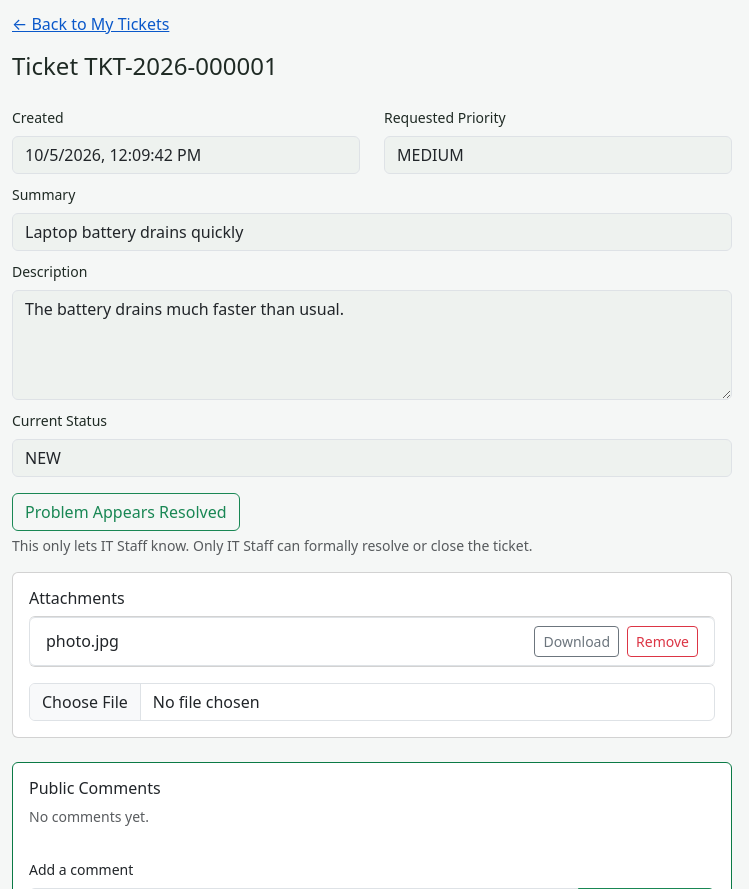
RequesterTicketDetail › removing an attachment requires a reason before confirming (AttachmentSection)
Expected: the text "photo.jpg" is shown, [46,630,119,654]
Click the button with aria-label "Remove photo.jpg" at (663,642), box [627,626,698,657]
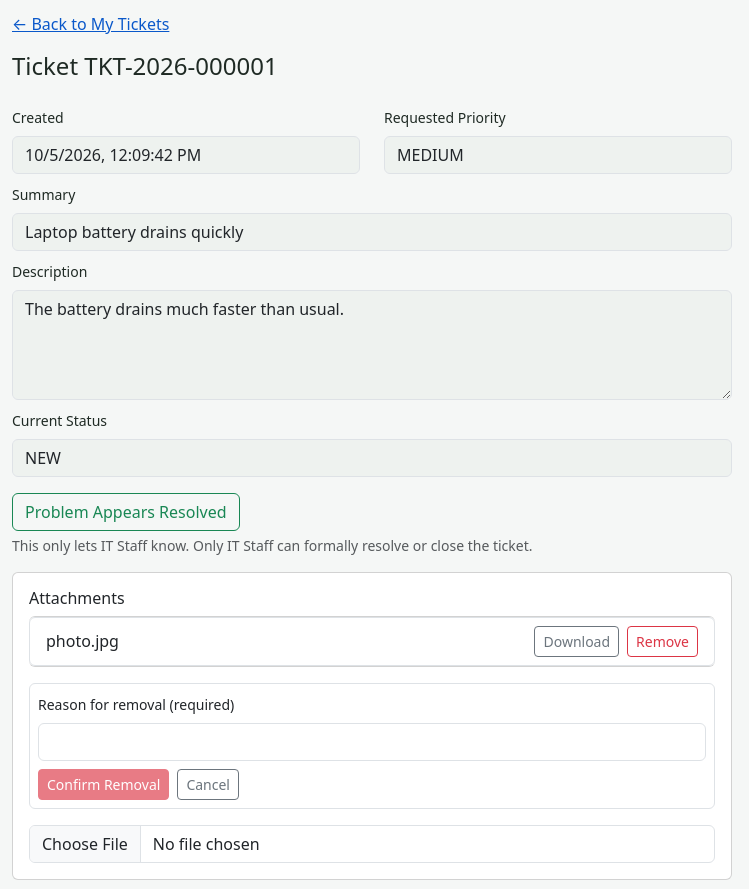
Expected: the button "Confirm Removal" is disabled, [38,769,169,800]
